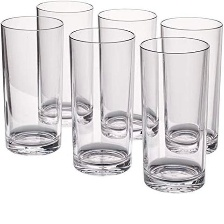glass: (134, 32, 224, 195), (63, 19, 145, 179), (95, 7, 168, 143), (0, 11, 68, 157), (159, 10, 224, 155), (35, 0, 103, 129)
